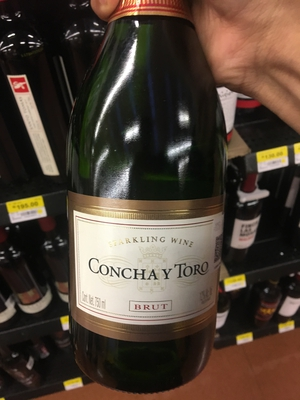brut: (67, 13, 232, 389)
